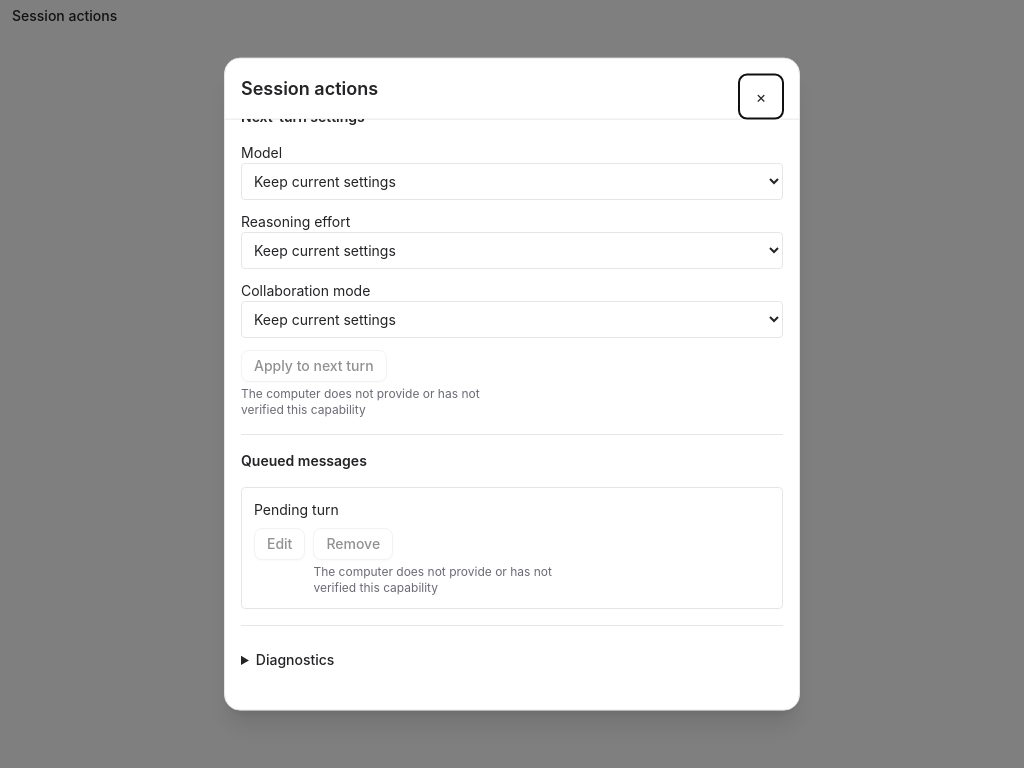
Scenario: keeps Codex operations focused on session management and automatic queues in en-US
This screenshot has width=1024, height=768.
(page scrolled)
Expected: the text "Pending turn" is shown, left=254, top=501, right=339, bottom=518
Expected: the heading "Queued messages" is shown, left=241, top=452, right=367, bottom=469
Click the heading "Diagnostics": (295, 659) left=256, top=651, right=334, bottom=668
(page scrolled)
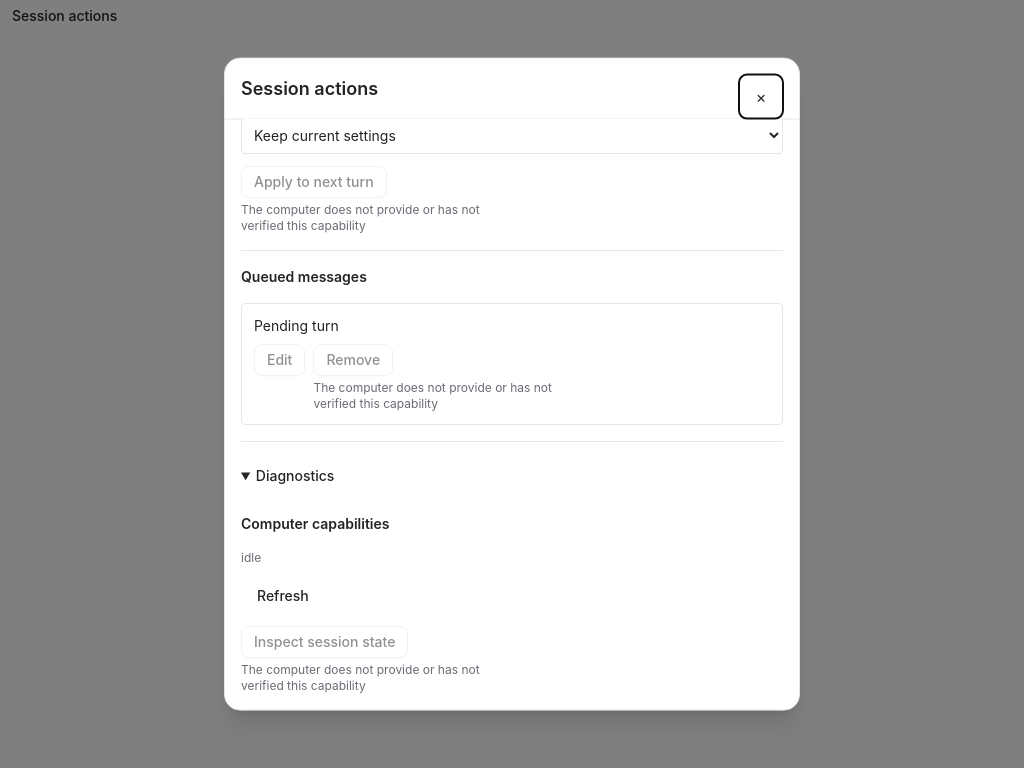
Expected: the button "Inspect session state" is shown, left=241, top=626, right=408, bottom=658
